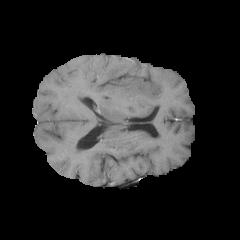glioma: (63, 65, 157, 102)
